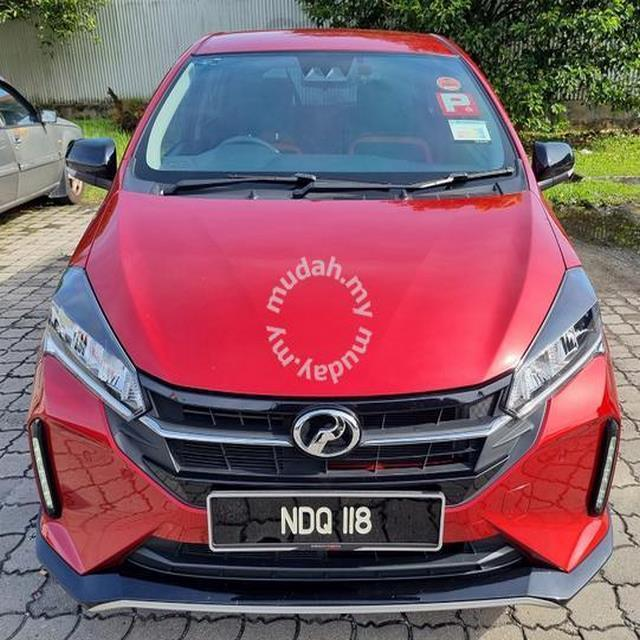License_Plate: (203, 486, 451, 560)
car: (19, 20, 633, 621)
